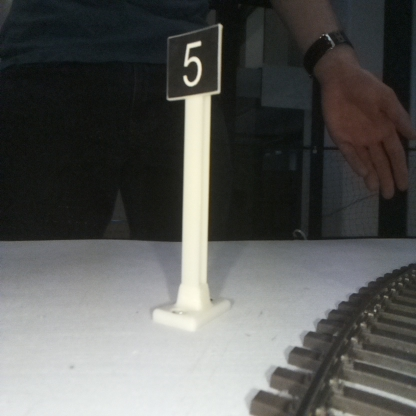black-info-5: (168, 27, 218, 323)
